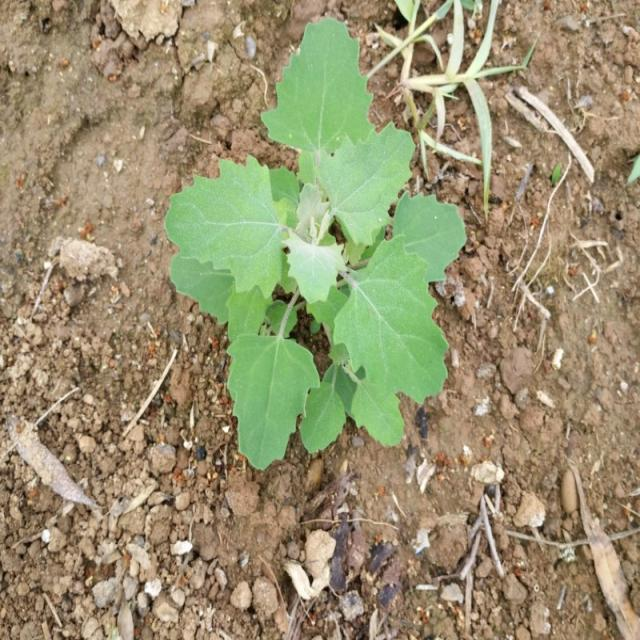ca: (164, 14, 467, 473)
